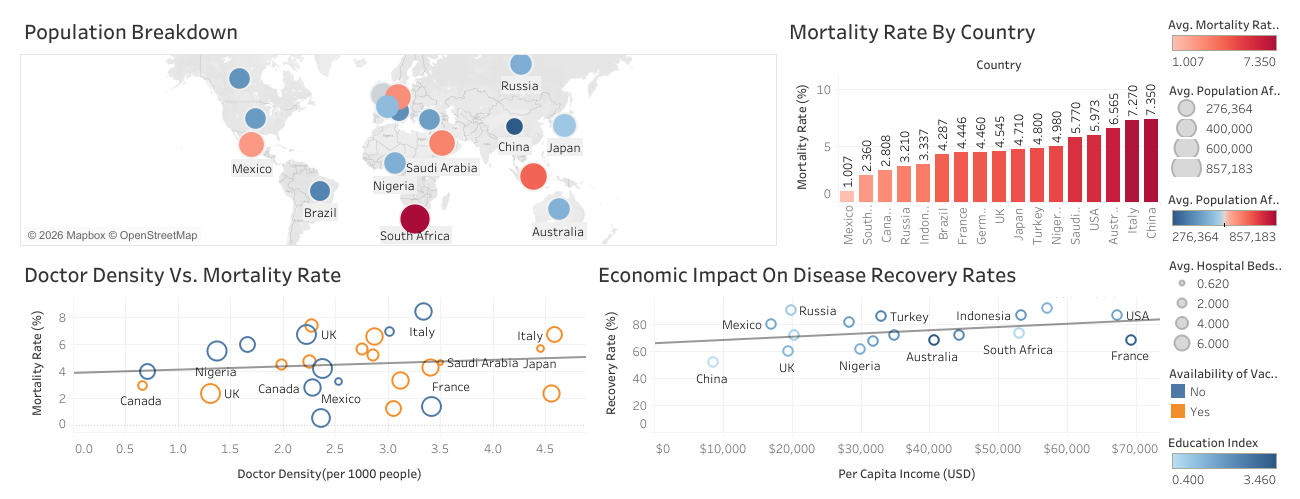

The page's visual inventory and layout, read from the dashboard file:
{"tool":"tableau","page":{"name":"Dashboard 1","canvas":[1000,1000],"units":"permille","ordinal":0},"visuals":[{"type":"worksheet","title":"Sheet 6","mark":"Circle","box":[12.3,14.3,557.9,485.7]},{"type":"worksheet","title":"Sheet 1","mark":"Automatic","rows":["Mortality Rate (%)"],"cols":["Country"],"box":[570.2,14.3,279,485.7]},{"type":"legend","title":"Sheet 1","param":"[federated.1i7gicm1lz2g8k10ruzvy0pc0a8t].[avg:Mortality Rate (%):qk]","box":[849.2,14.3,138.5,119.5]},{"type":"legend","title":"Sheet 6","param":"[federated.1i7gicm1lz2g8k10ruzvy0pc0a8t].[avg:Population Affected:qk]","box":[849.2,133.8,138.5,194.9]},{"type":"legend","title":"Sheet 6","param":"[federated.1i7gicm1lz2g8k10ruzvy0pc0a8t].[avg:Population Affected:qk]","box":[849.2,328.6,138.5,119.5]},{"type":"legend","title":"Sheet 3","param":"[federated.1i7gicm1lz2g8k10ruzvy0pc0a8t].[avg:Hospital Beds per 1000:qk]","box":[849.2,448.1,138.5,268.4]},{"type":"worksheet","title":"Sheet 3","mark":"Automatic","rows":["Mortality Rate (%)"],"cols":["Doctors per 1000"],"box":[12.3,500,418.4,485.7]},{"type":"worksheet","title":"Sheet 5","mark":"Automatic","rows":["Disease Category"],"cols":["Age Group","Gender"],"box":[430.7,500,209.2,485.7]},{"type":"worksheet","title":"Sheet 2","mark":"Automatic","rows":["Recovery Rate (%)"],"cols":["Per Capita Income (USD)"],"box":[639.9,500,209.2,485.7]},{"type":"legend","title":"Sheet 3","param":"[federated.1i7gicm1lz2g8k10ruzvy0pc0a8t].[none:Availability of Vaccines/Treatmen","box":[849.2,716.5,138.5,121.3]},{"type":"legend","title":"Sheet 2","param":"[federated.1i7gicm1lz2g8k10ruzvy0pc0a8t].[sum:Education Index:qk]","box":[849.2,837.9,138.5,119.5]}]}

Visuals, with their boxes on the dashboard's canvas, which has no fixed pixel size, in thousandths of its width and height (x1, y1, x2, y2). These are canvas units, not pixel positions in the 1300x499 screenshot, which may show the page scaled, cropped or inside an application window:
"Sheet 6" worksheet (Circle marks): l=12, t=14, r=570, b=500
"Sheet 1" worksheet: l=570, t=14, r=849, b=500
"Sheet 1" legend: l=849, t=14, r=988, b=134
"Sheet 6" legend: l=849, t=134, r=988, b=329
"Sheet 6" legend: l=849, t=329, r=988, b=448
"Sheet 3" legend: l=849, t=448, r=988, b=716
"Sheet 3" worksheet: l=12, t=500, r=431, b=986
"Sheet 5" worksheet: l=431, t=500, r=640, b=986
"Sheet 2" worksheet: l=640, t=500, r=849, b=986
"Sheet 3" legend: l=849, t=716, r=988, b=838
"Sheet 2" legend: l=849, t=838, r=988, b=957
